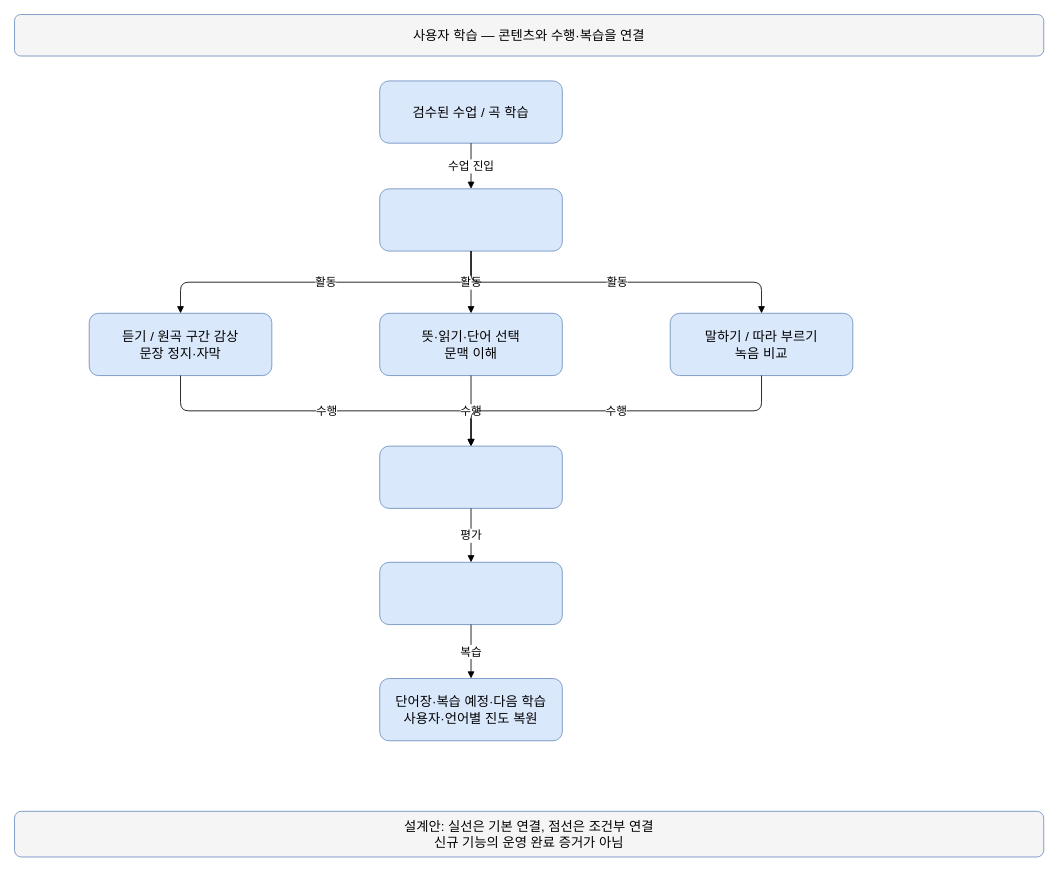
This 1058x872 diagram has some shape labels left out. The shapes that lost their labels are listed below. From the top down, each one's centre as x and y in pixels, then its label:
At pixel 470 219: "학습 목표·언어·레벨·상황".
At pixel 470 476: "문항·활동 수행 기록 정답/내용/음성 근거 구분".
At pixel 470 593: "근거 있는 피드백 학습 완료와 숙련 분리".
